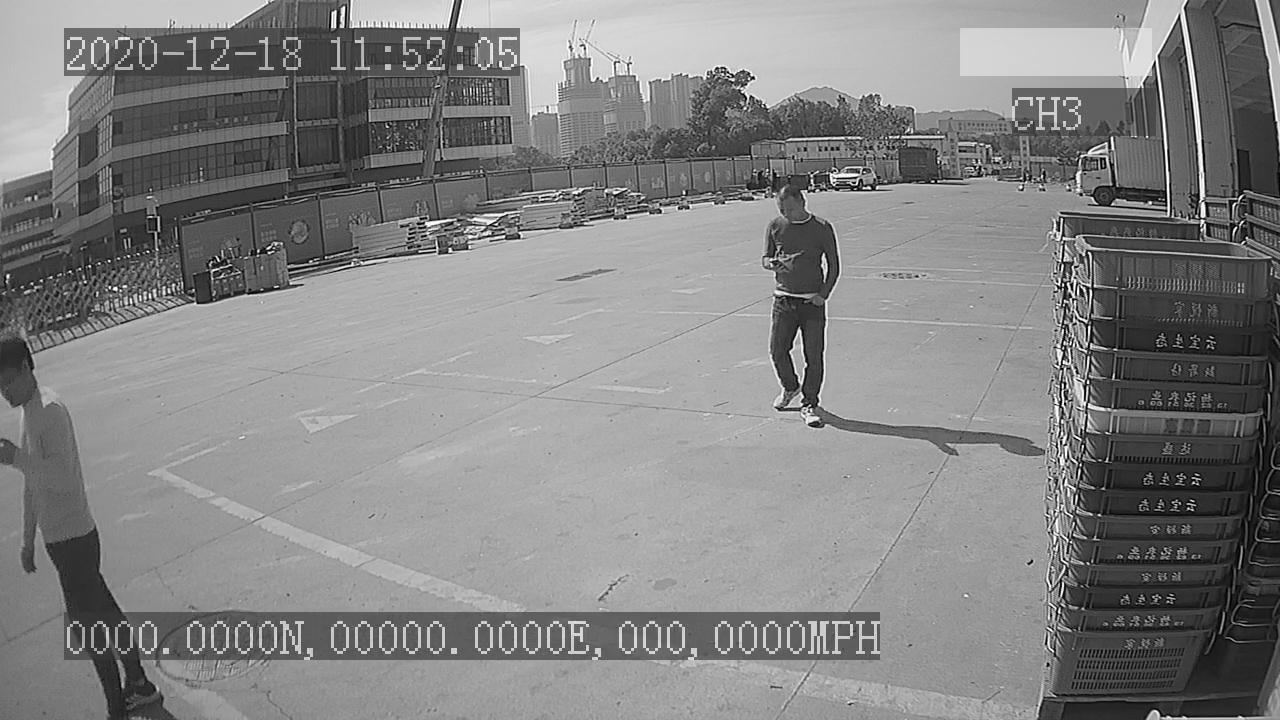person: (754, 179, 845, 429)
